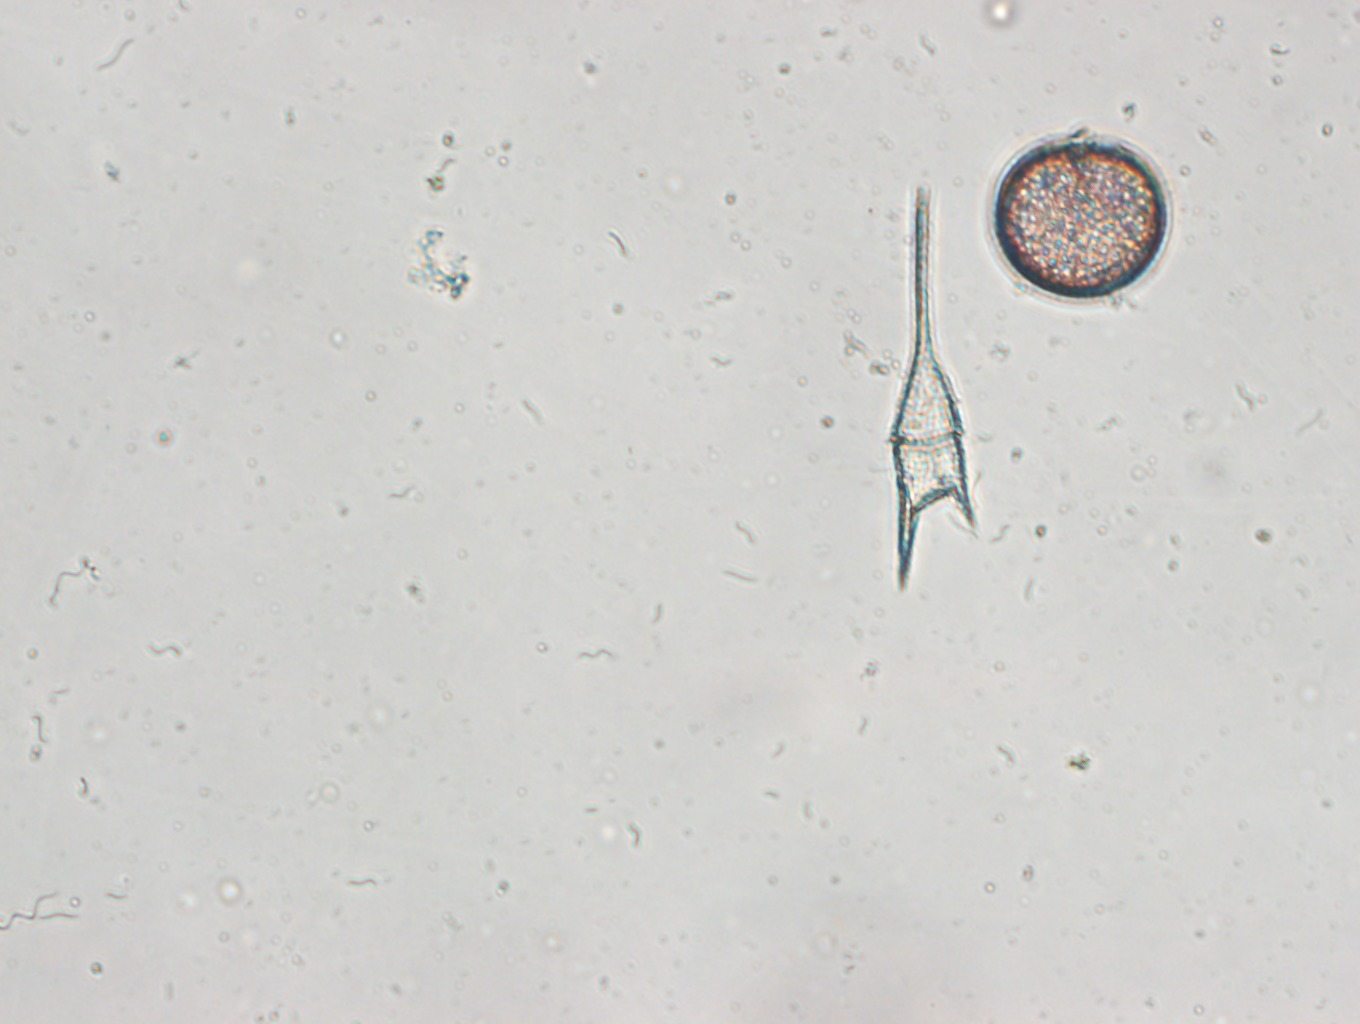ceratium furca: (875, 170, 983, 595)
coscinodiscus: (985, 125, 1178, 310)
